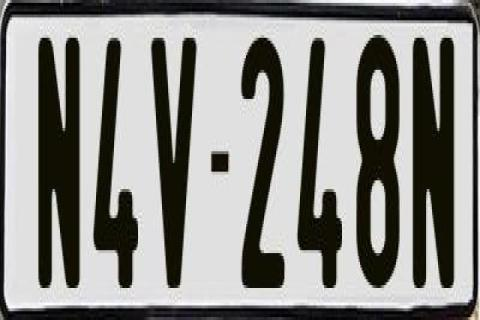0: (92, 32, 142, 291), (242, 32, 290, 291), (296, 32, 342, 300), (356, 35, 404, 291)
N: (412, 38, 456, 297), (36, 32, 76, 282)
V: (148, 35, 198, 294)
